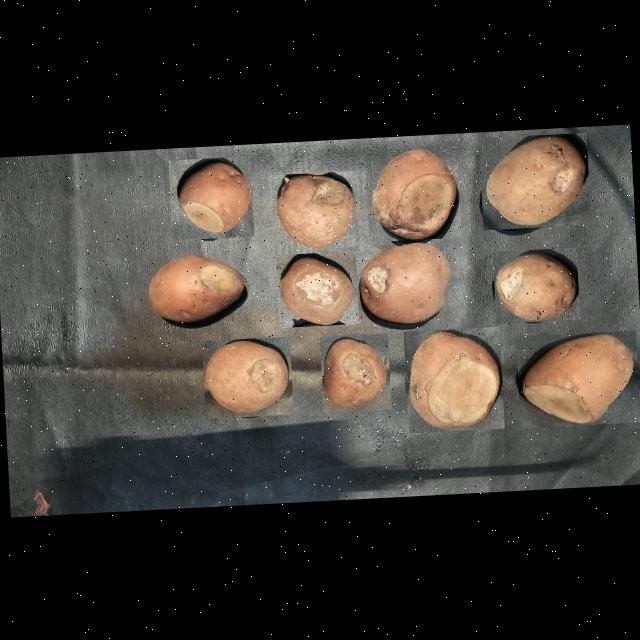Damaged potato: (515, 330, 640, 428), (478, 132, 590, 230), (403, 326, 504, 432), (364, 140, 461, 242), (354, 235, 456, 328), (141, 248, 255, 331), (201, 336, 293, 418), (270, 170, 358, 254), (167, 156, 254, 240), (274, 247, 358, 327), (492, 246, 580, 322), (319, 333, 391, 412)
